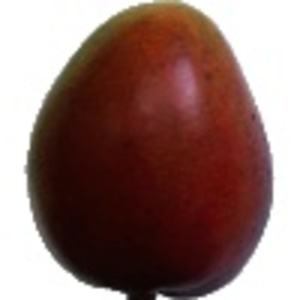manga: (26, 1, 274, 300)
